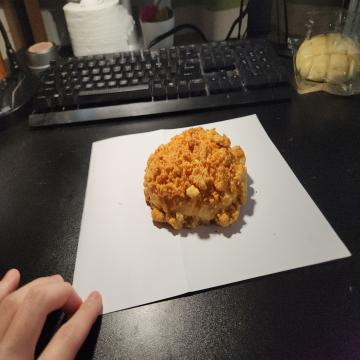soboru_bread: (145, 128, 248, 230)
